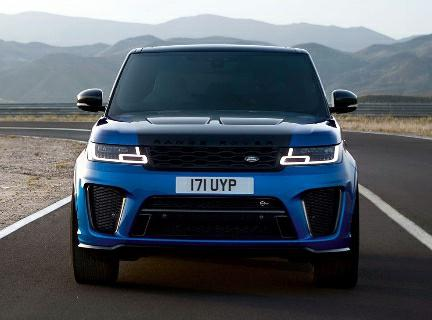路虎-揽胜运动版: (69, 39, 365, 287)
